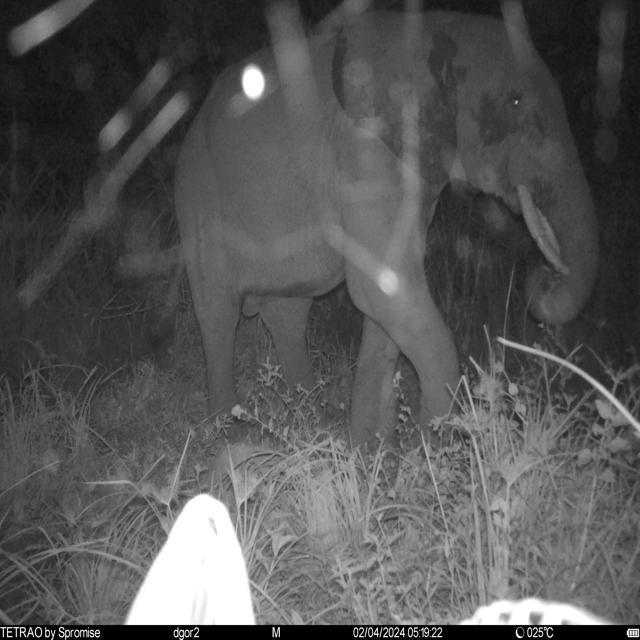ear: (332, 10, 460, 186)
elephant: (152, 11, 602, 458)
tusk: (516, 185, 570, 274)
